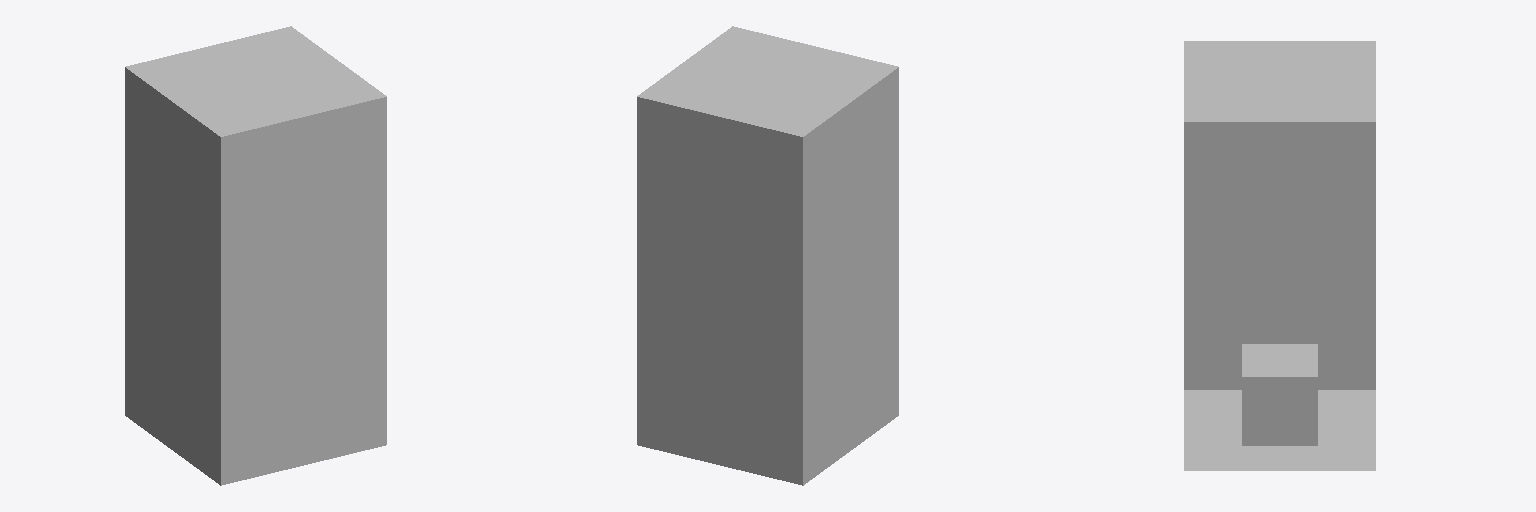
File: walmart_cornell_box.obj
The picture shows the model from 3 angles: view 1: azimuth 30°, elevation 25°; view 2: azimuth 150°, elevation 25°; view 3: azimuth 270°, elevation 25°; orthographic projection.
Parts seen in each view (by area): view 1: Cube; view 2: Cube; view 3: Cube, Cube.001.
Boxes of the visible parts, x1,y1,x2,y2 form: Cube: [125, 26, 386, 485]; Cube: [637, 26, 898, 485]; Cube: [1184, 41, 1375, 470]; Cube.001: [1242, 344, 1317, 445].
Size of the model in its own units: 2 by 4 by 2.